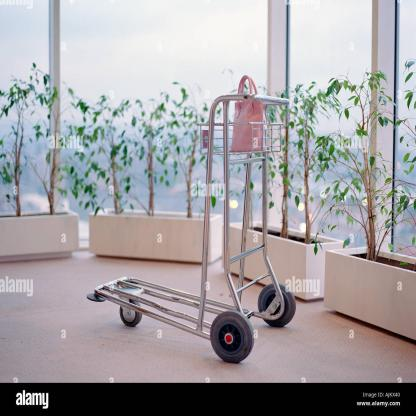airport-trolley: (85, 93, 298, 365)
